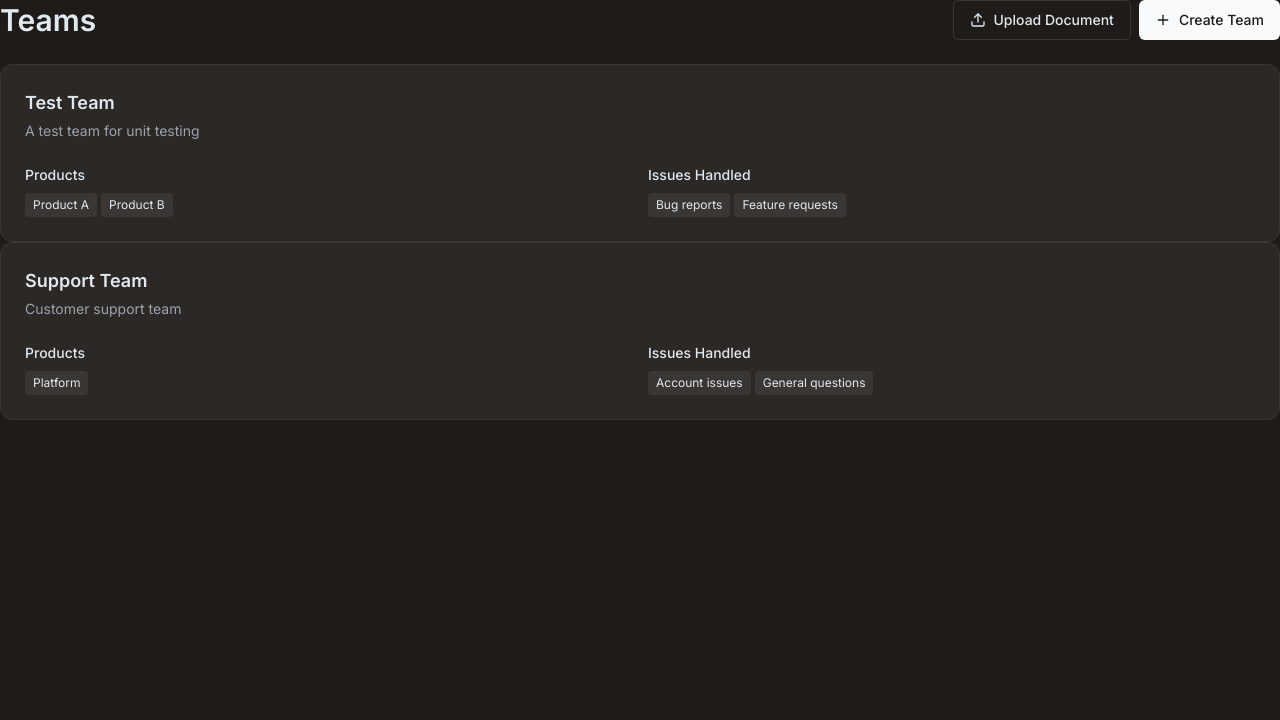
Test: TeamList Component › should open upload dialog when Upload Document button is clicked
Click the button "Upload Document".
click(1042, 20)  # box [952, 0, 1131, 40]
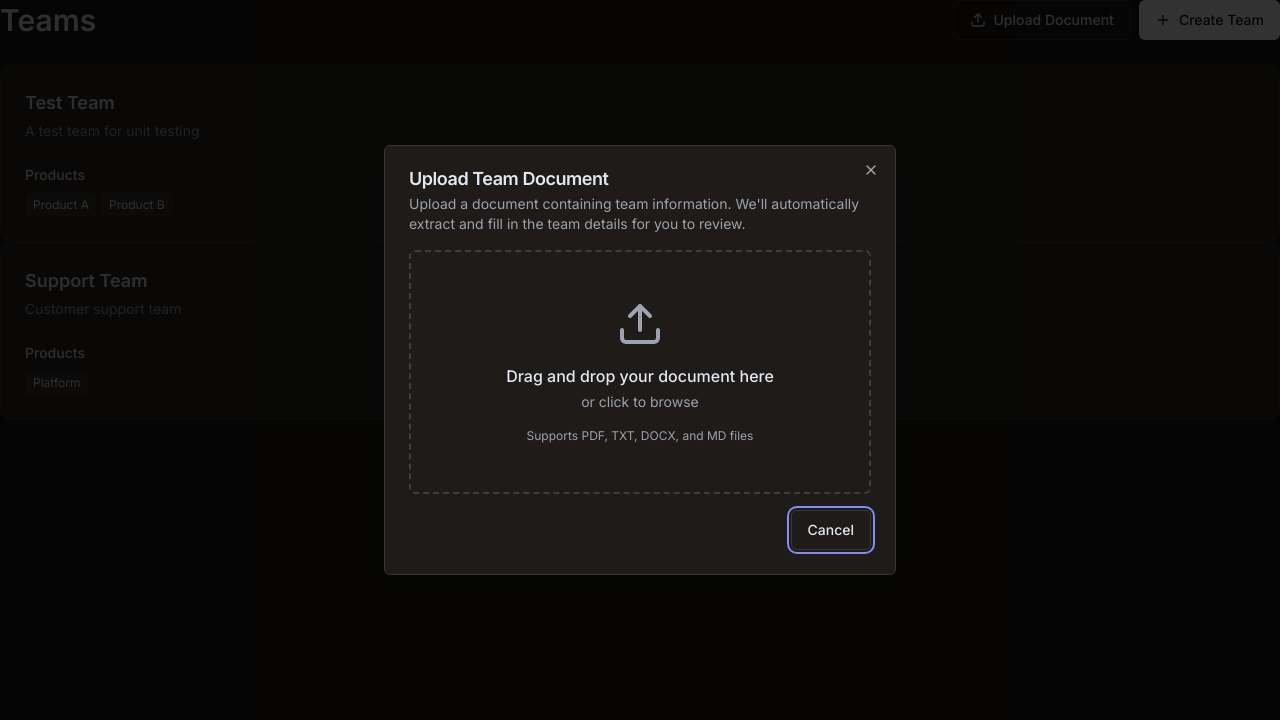
Check: the heading "Upload Team Document" is shown, box [409, 168, 608, 189]
